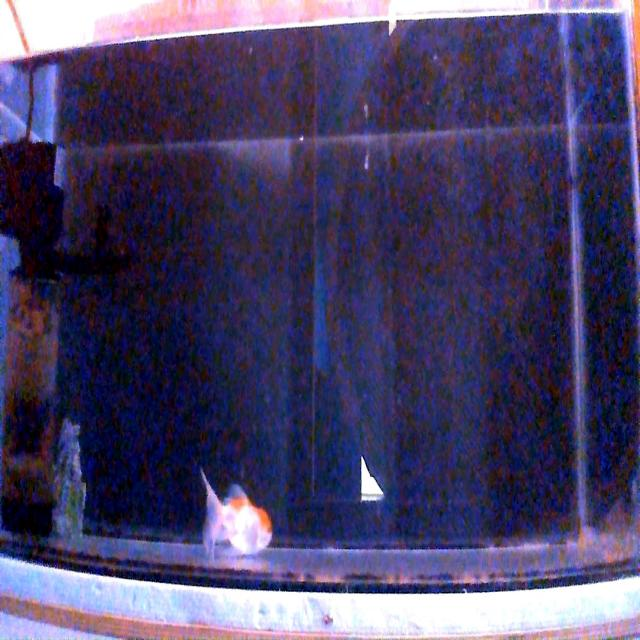fish: (199, 468, 273, 560)
